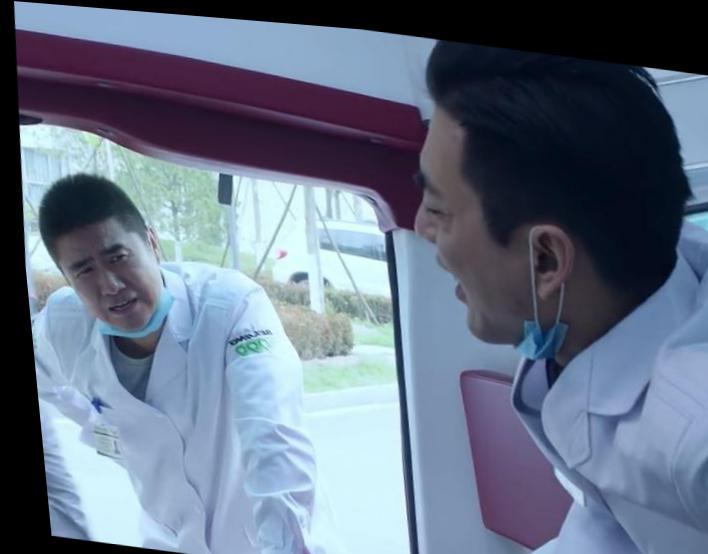WRONG: (392, 121, 545, 351), (55, 228, 163, 338)
